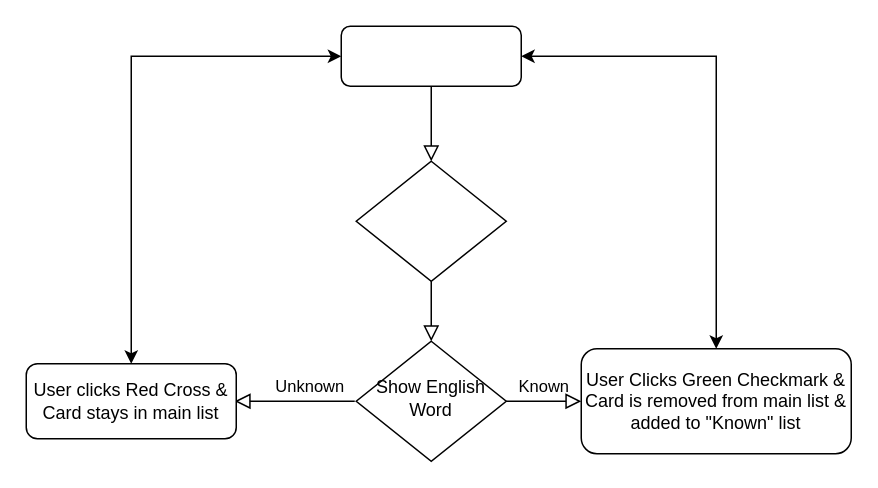
The diagram is 878 pixels wide and 488 high, and some of its shapes have lost their labels. The box of each missing label's shape, as (x1, y1, x2, y2) in pixels:
Flash card with French Word: (340, 25, 521, 86)
Wait Three Seconds: (355, 160, 506, 281)
